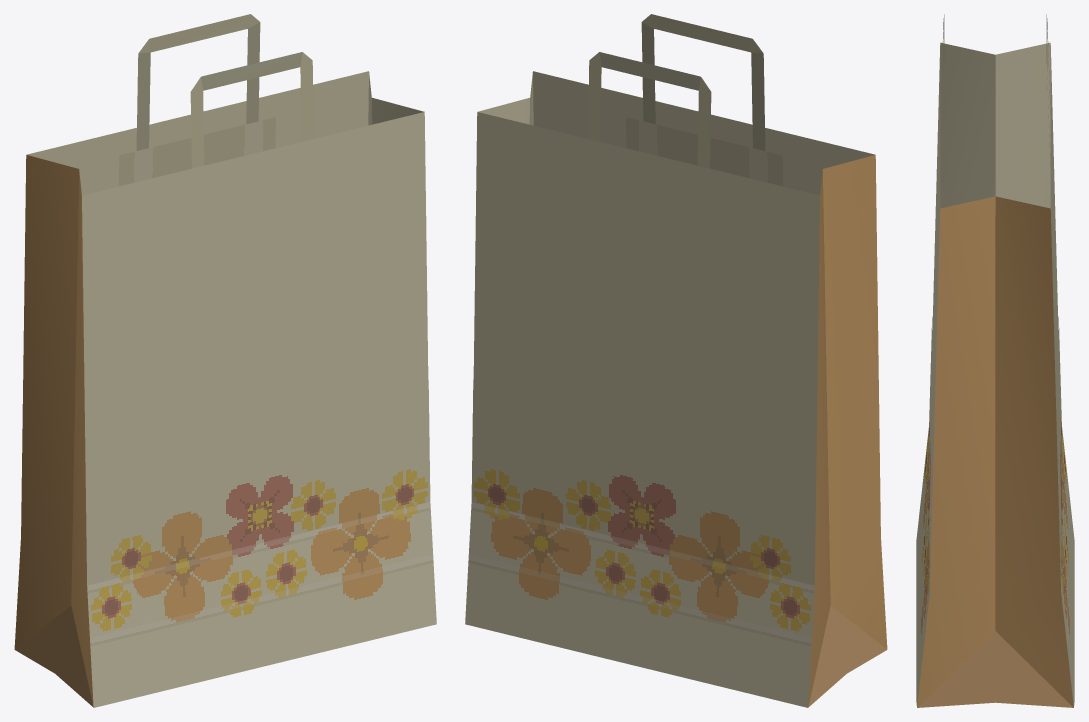
Rendered from 0477_Paper_Bag.glb.
3 views of the same model, side by side, from view 1: azimuth 30°, elevation 25°; view 2: azimuth 150°, elevation 25°; view 3: azimuth 270°, elevation 25° (orthographic).
Parts seen in each view (by area): view 1: part_0; view 2: part_0; view 3: part_0.
Part boxes in pixels (x1,y1,x2,y2): part_0: (14,14,436,707); part_0: (465,14,887,707); part_0: (916,14,1074,707).
Bounding box in the file's own units: 0.3633 × 0.599 × 0.1467.
1 material, 1 textured.
